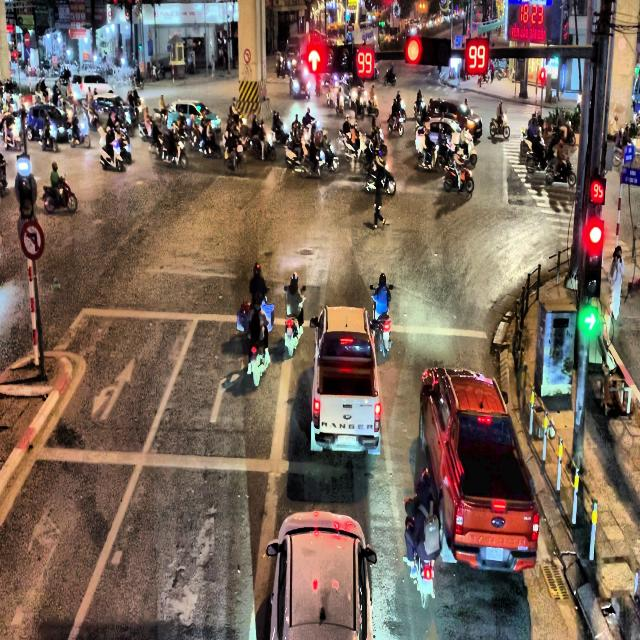lisence_plate: (482, 544, 504, 564), (336, 436, 358, 449)
